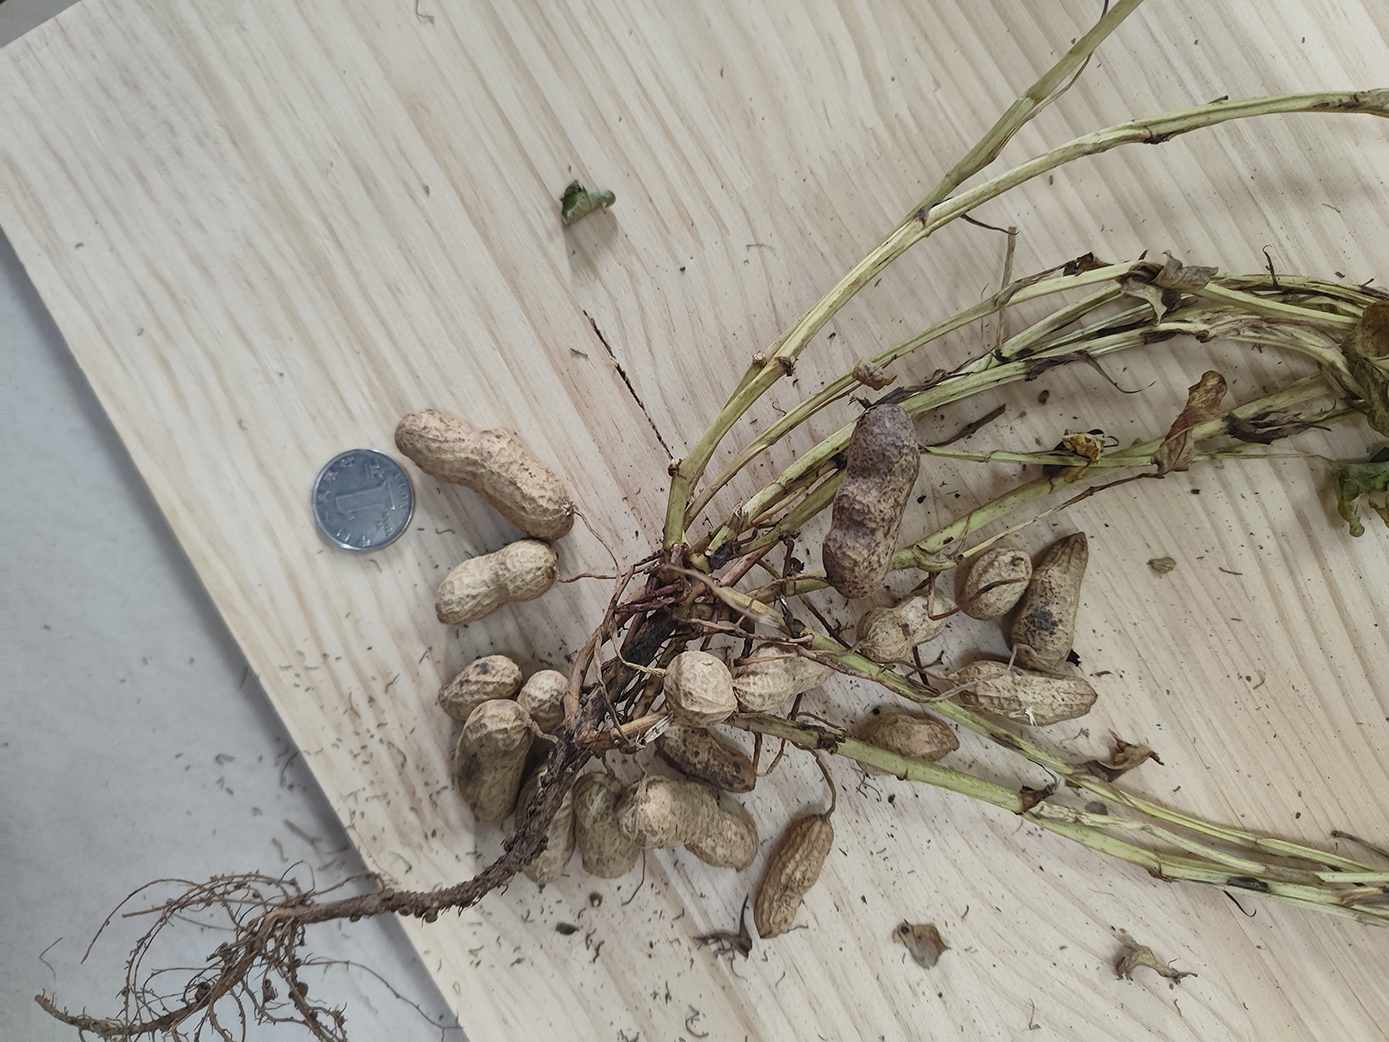h: (395, 410, 574, 539), (618, 775, 759, 872), (1009, 531, 1088, 670), (433, 542, 562, 624), (753, 815, 833, 940), (961, 660, 1099, 727), (455, 702, 528, 823), (655, 719, 759, 794), (574, 772, 641, 881), (857, 589, 952, 663), (514, 766, 574, 883), (736, 642, 838, 706), (854, 714, 959, 769), (954, 548, 1032, 620), (439, 655, 522, 719), (665, 652, 737, 723), (516, 669, 568, 736)
l: (820, 403, 919, 597)
